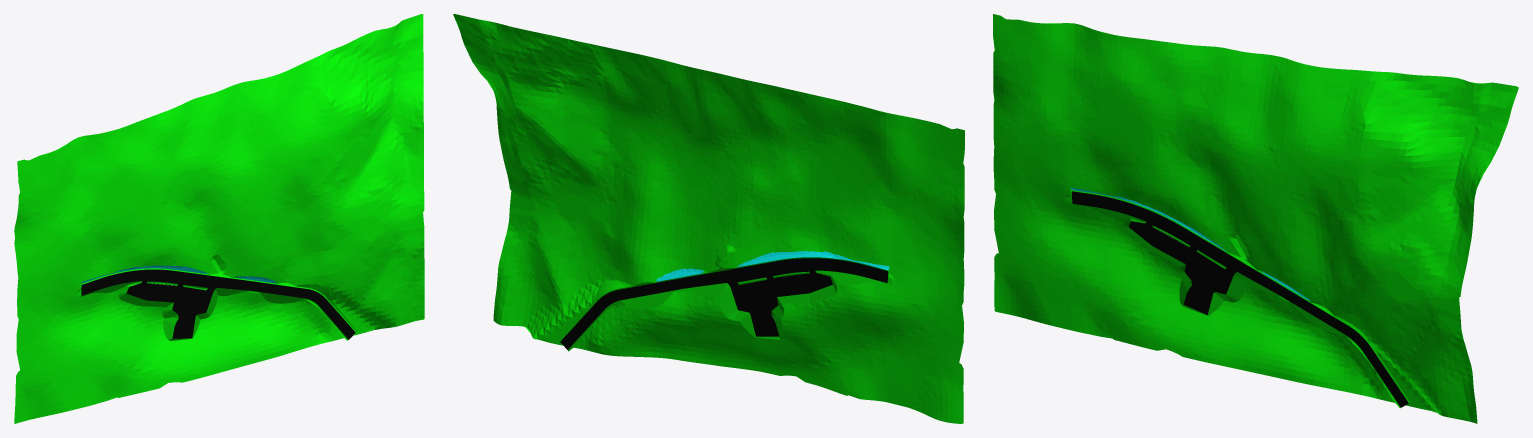
Rendered from kyroad.glb.
The picture shows the model from 3 angles, left to right: view 1: azimuth 30°, elevation 25°; view 2: azimuth 150°, elevation 25°; view 3: azimuth 330°, elevation 25°; orthographic projection. The views are drawn at different scales.
Visible parts, largest first — view 1: LandXML Surface :US68MERGE5FROADNET; view 2: LandXML Surface :US68MERGE5FROADNET; view 3: LandXML Surface :US68MERGE5FROADNET.
Boxes of the visible parts, bbox=[...] form: LandXML Surface :US68MERGE5FROADNET: bbox=[14, 14, 424, 423]; LandXML Surface :US68MERGE5FROADNET: bbox=[453, 14, 964, 423]; LandXML Surface :US68MERGE5FROADNET: bbox=[993, 14, 1518, 423].
Size of the model in its own units: 854 by 552 by 101.
